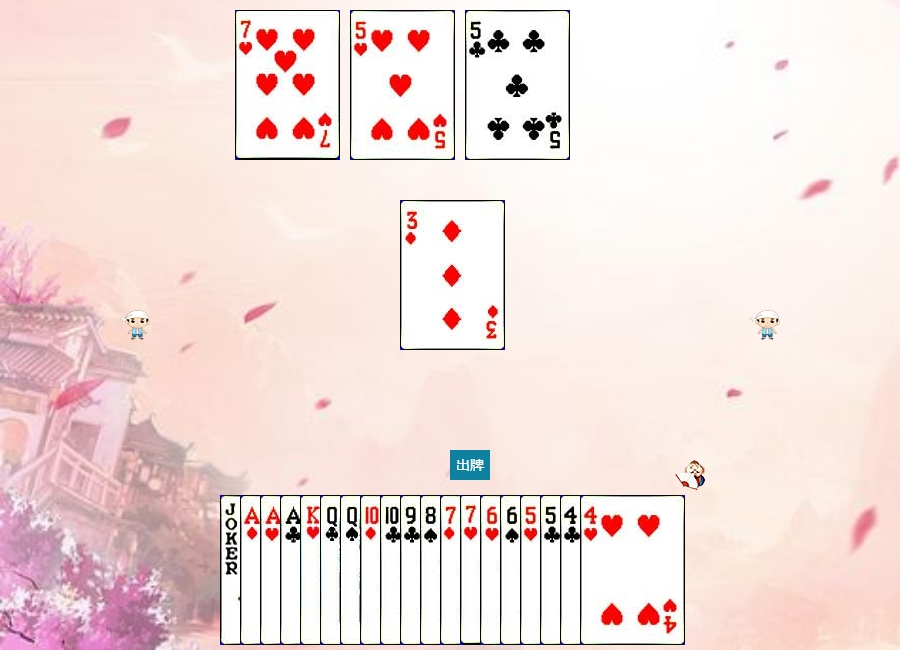10~1: (360, 495, 465, 645)
10~2: (380, 495, 485, 645)
12~2: (320, 495, 425, 645)
12~4: (340, 495, 445, 645)
13~3: (300, 495, 405, 645)
14~1: (240, 495, 345, 645)
14~2: (280, 495, 385, 645)
14~3: (260, 495, 365, 645)
17~3: (220, 495, 325, 645)
3~1: (400, 200, 505, 350)
4~2: (560, 495, 665, 645)
4~3: (580, 495, 685, 645)
5~2: (465, 10, 570, 160), (540, 495, 645, 645)
5~3: (350, 10, 455, 160), (520, 495, 625, 645)
6~3: (480, 495, 585, 645)
6~4: (500, 495, 605, 645)
7~1: (440, 495, 545, 645)
7~3: (235, 10, 340, 160), (460, 495, 565, 645)
8~4: (420, 495, 525, 645)
9~2: (400, 495, 505, 645)
